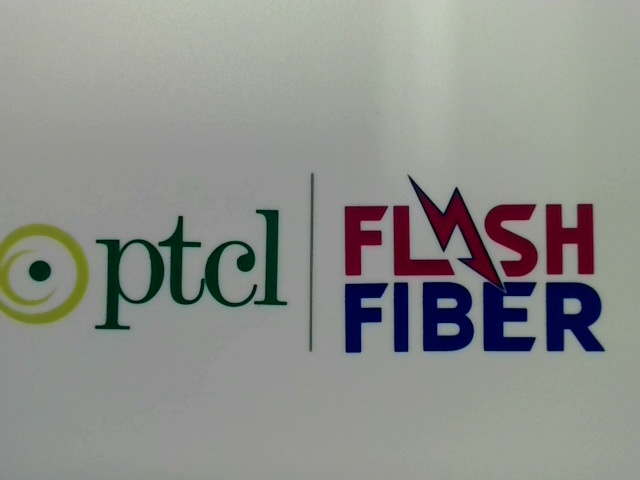BF_PTCL: (1, 198, 283, 340)
